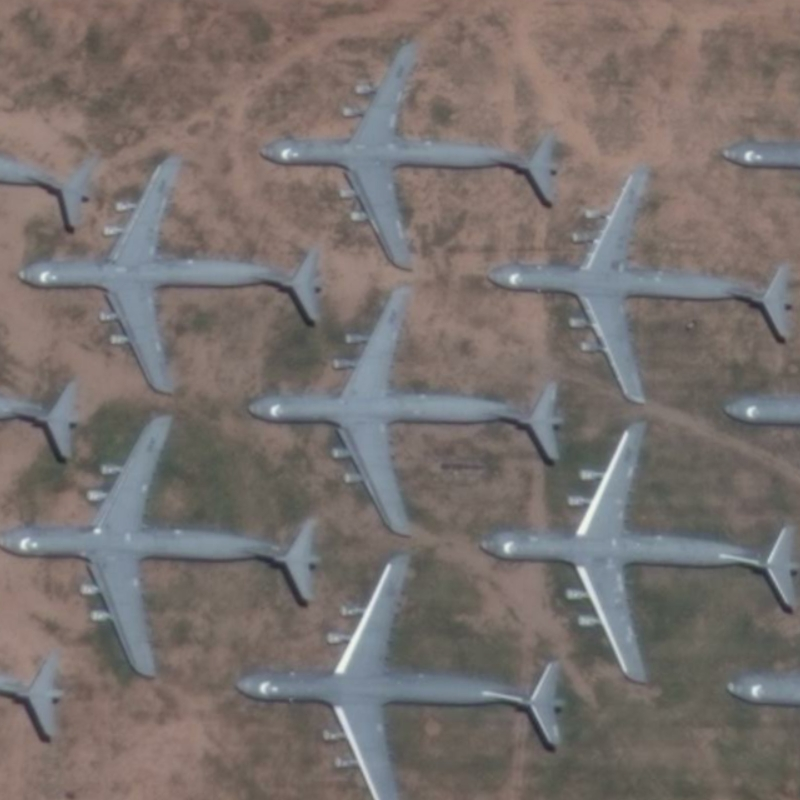A4: (470, 412, 796, 687), (4, 408, 328, 683), (230, 550, 583, 800), (240, 285, 574, 543), (12, 152, 325, 397), (480, 166, 794, 406), (257, 40, 554, 276)
